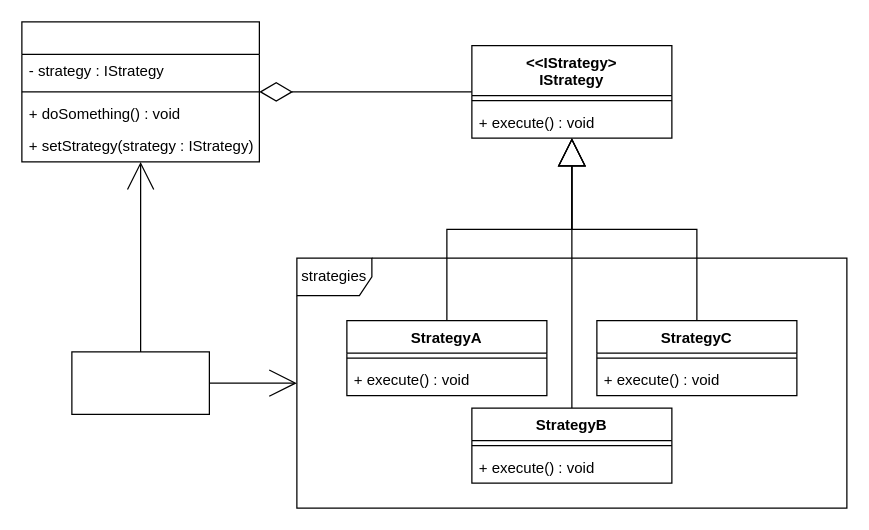
Some shapes in this 869 by 530 pixel diagram are drawn without their labels. The shapes that lost their labels are listed below. From the top down, each one's box as (x1, y1, x2, y2) in pixels, then its label:
(21, 21, 259, 162): Context
(71, 351, 209, 414): Client
